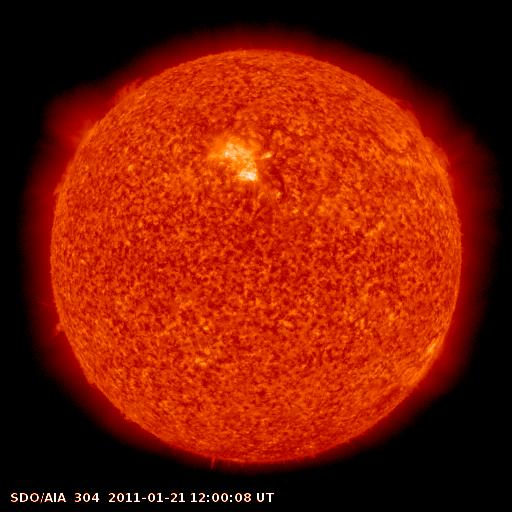prominence: (384, 91, 459, 192), (101, 70, 155, 114), (47, 147, 83, 204), (42, 304, 77, 348)
